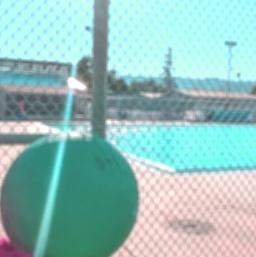algae: (0, 131, 140, 257)
